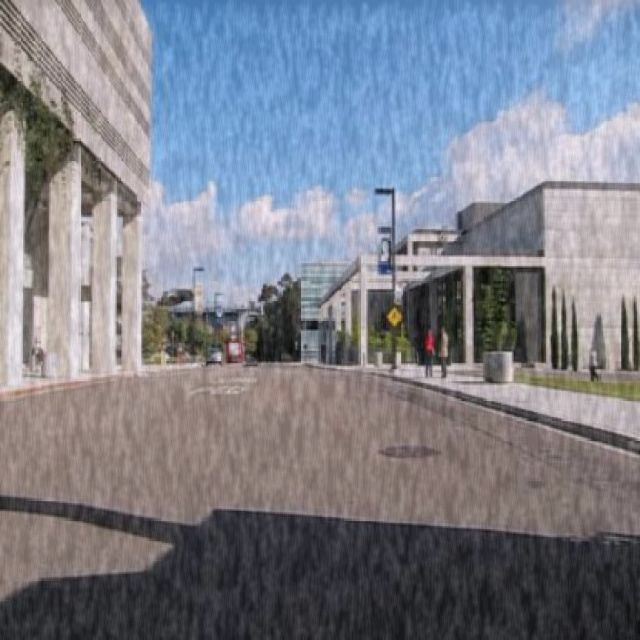pedestrianCrossing: (386, 305, 403, 328)
